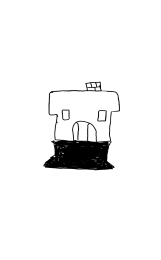chimney: (83, 78, 105, 97)
door: (70, 119, 98, 144)
open_window: (95, 108, 109, 124), (59, 107, 72, 122)
shadow: (42, 137, 117, 173)
single_line_roof: (43, 89, 123, 117)
small_house: (3, 2, 161, 260)
wall: (51, 106, 114, 144)
